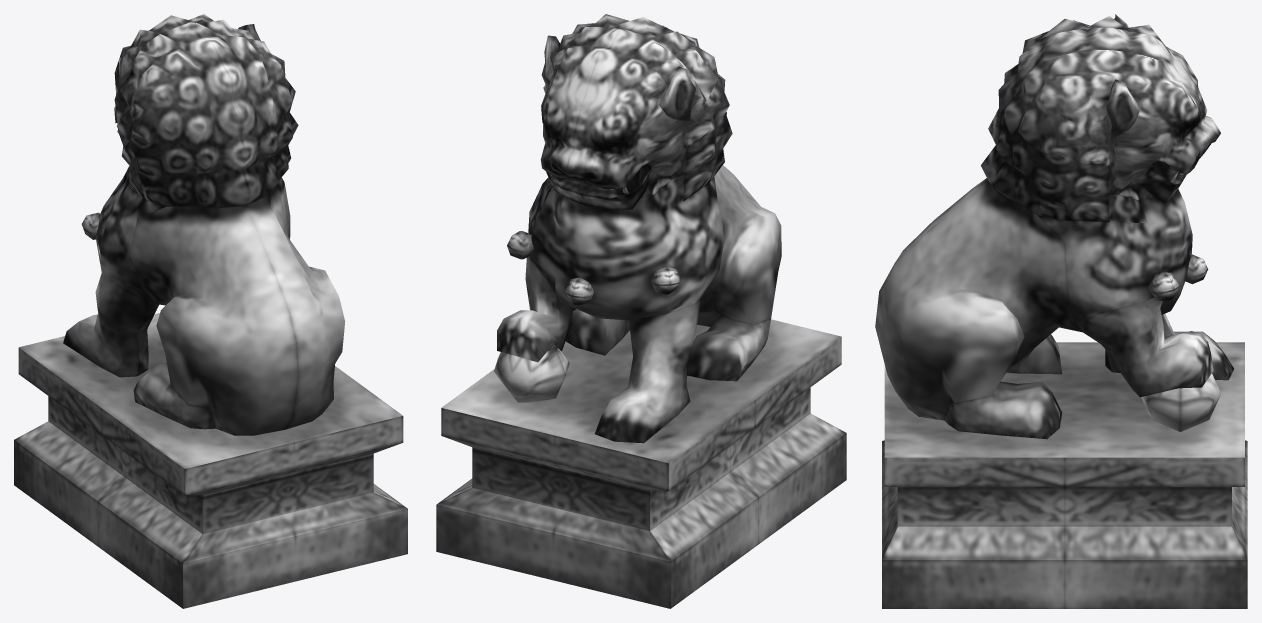
File: diaoxiang1.FBX
3 views of the same model, side by side, from view 1: azimuth 30°, elevation 25°; view 2: azimuth 150°, elevation 25°; view 3: azimuth 270°, elevation 25° (orthographic). The views are drawn at different scales.
Parts seen in each view (by area): view 1: S1_diaoxiang05a_tf, S1_diaoxiang05b_tf; view 2: S1_diaoxiang05a_tf, S1_diaoxiang05b_tf; view 3: S1_diaoxiang05a_tf, S1_diaoxiang05b_tf.
Part boxes in pixels (x1,y1,x2,y2): S1_diaoxiang05a_tf: [63, 14, 345, 435]; S1_diaoxiang05b_tf: [14, 313, 407, 608]; S1_diaoxiang05a_tf: [497, 14, 781, 443]; S1_diaoxiang05b_tf: [436, 319, 846, 608]; S1_diaoxiang05a_tf: [875, 14, 1233, 439]; S1_diaoxiang05b_tf: [882, 342, 1247, 608].
Bounding box in the file's own units: 349 × 715 × 463.
